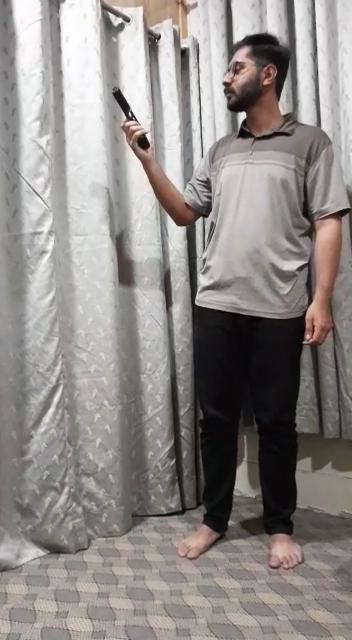criminal: (109, 32, 352, 572)
weapon: (110, 85, 155, 153)
